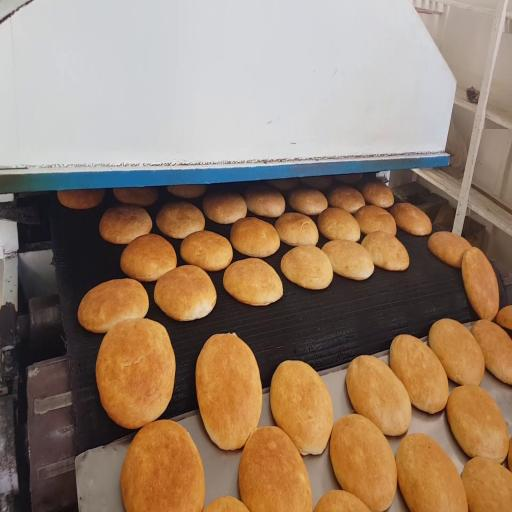bread: (96, 319, 175, 429), (196, 334, 262, 450), (121, 421, 205, 511), (330, 414, 396, 511), (239, 427, 312, 511), (270, 361, 333, 455), (396, 433, 467, 511), (346, 356, 411, 436), (447, 385, 508, 463), (390, 335, 449, 413), (78, 279, 148, 333), (429, 319, 484, 384), (154, 266, 216, 321), (223, 258, 283, 305), (462, 247, 499, 320), (462, 457, 511, 511), (121, 234, 176, 281), (471, 320, 511, 384), (281, 246, 333, 289), (180, 231, 232, 271), (322, 240, 374, 280), (99, 205, 152, 244), (230, 218, 280, 257), (362, 231, 409, 271), (156, 202, 205, 239), (428, 232, 471, 268), (275, 213, 318, 246), (203, 192, 247, 224), (318, 208, 360, 241), (244, 184, 285, 217), (391, 203, 431, 236), (355, 205, 396, 235), (314, 490, 369, 511), (289, 189, 327, 215), (329, 186, 365, 213), (57, 190, 104, 209), (361, 181, 394, 208), (114, 187, 158, 206), (204, 497, 249, 511), (168, 184, 206, 199), (300, 176, 332, 190), (267, 178, 298, 191), (496, 305, 511, 329), (336, 174, 362, 184), (508, 437, 511, 471)
